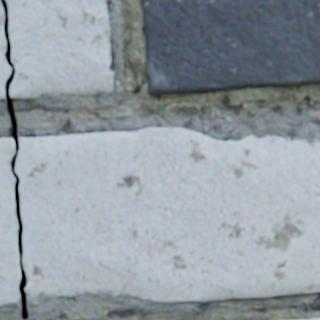brick: (141, 0, 319, 96), (303, 318, 319, 319)
broken_brick: (14, 128, 319, 302), (4, 0, 112, 99), (0, 139, 20, 305), (0, 2, 11, 100)
crack: (0, 0, 27, 319)
